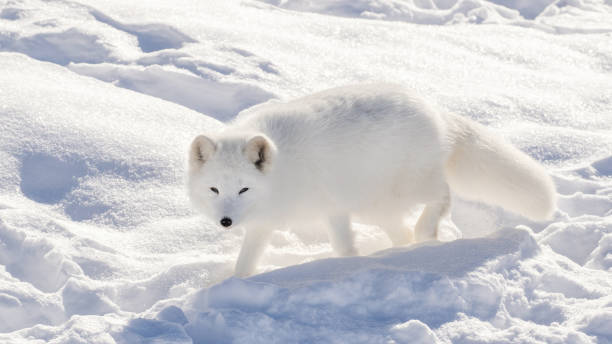arcticfox: (186, 145, 262, 243)
